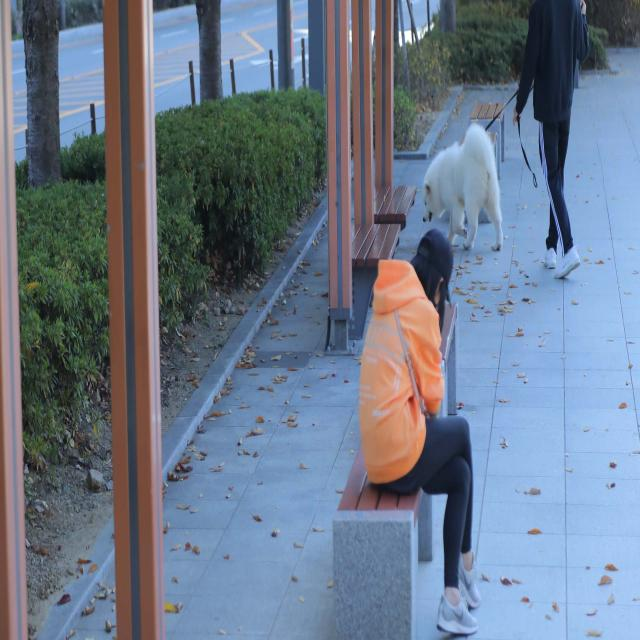Leashed_Dog: (421, 66, 555, 251)
